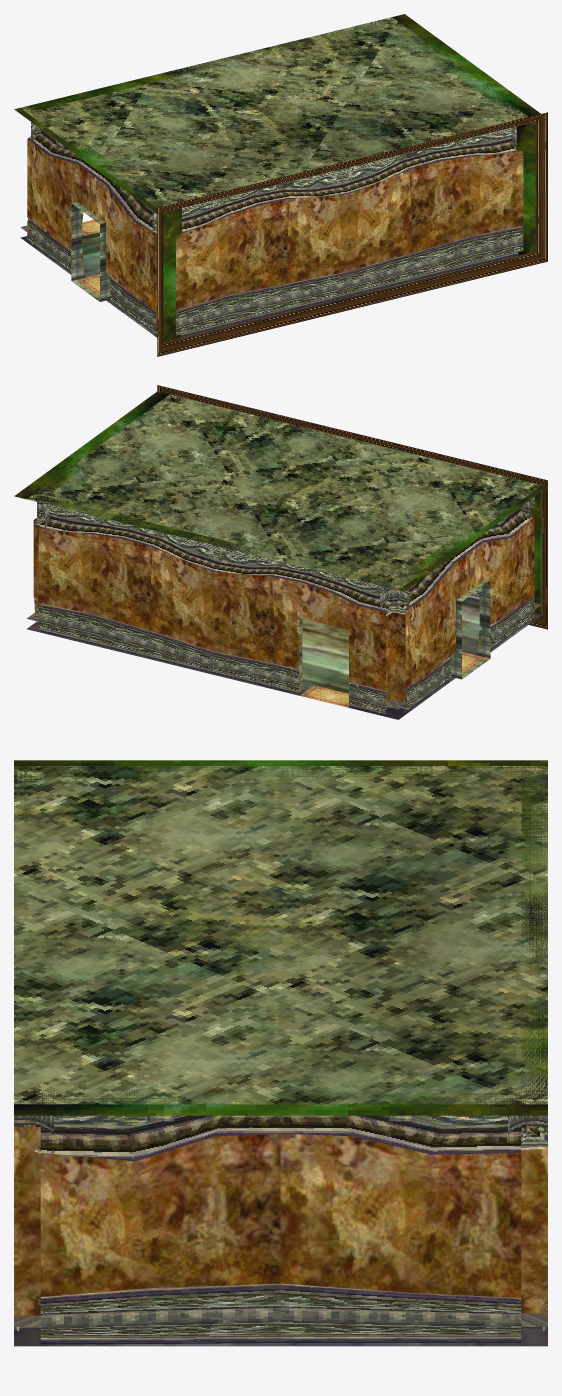
The model's file is room_63.glb.
3 views of the same model, one above another, from view 1: azimuth 30°, elevation 25°; view 2: azimuth 150°, elevation 25°; view 3: azimuth 270°, elevation 25° (orthographic). The views are drawn at different scales.
Parts seen in each view (by area): view 1: room_63; view 2: room_63; view 3: room_63.
Part boxes in pixels (x1=…): room_63: x1=14, y1=14, x2=547, y2=356; room_63: x1=14, y1=385, x2=547, y2=719; room_63: x1=14, y1=760, x2=547, y2=1346.
Bounding box in the file's own units: 1575 × 575 × 1000.
Materials: 9 (9 with a texture image).
